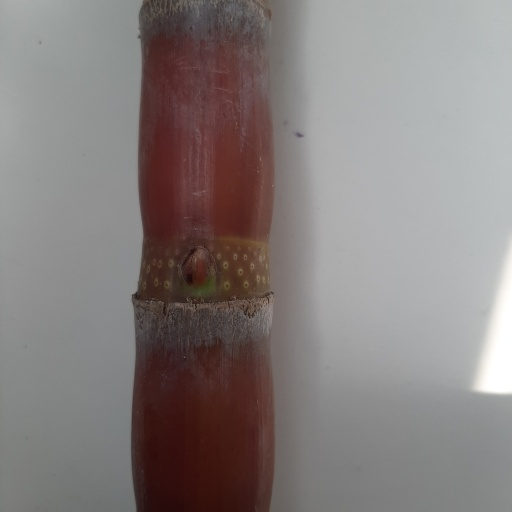Bud: (181, 244, 221, 290)
